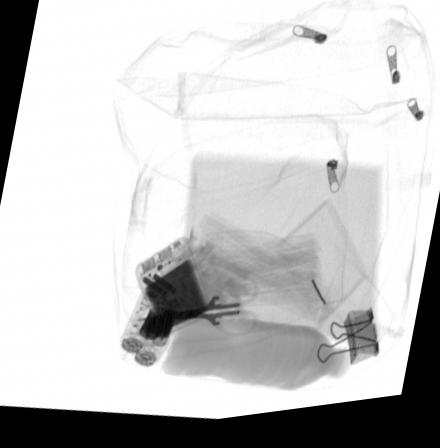Powerbank: (133, 242, 212, 343)
Scissors: (134, 284, 257, 343)
